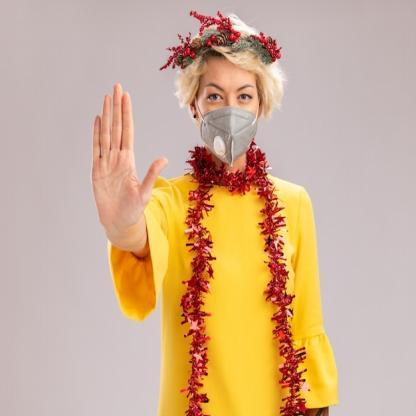stop: (89, 82, 169, 234)
